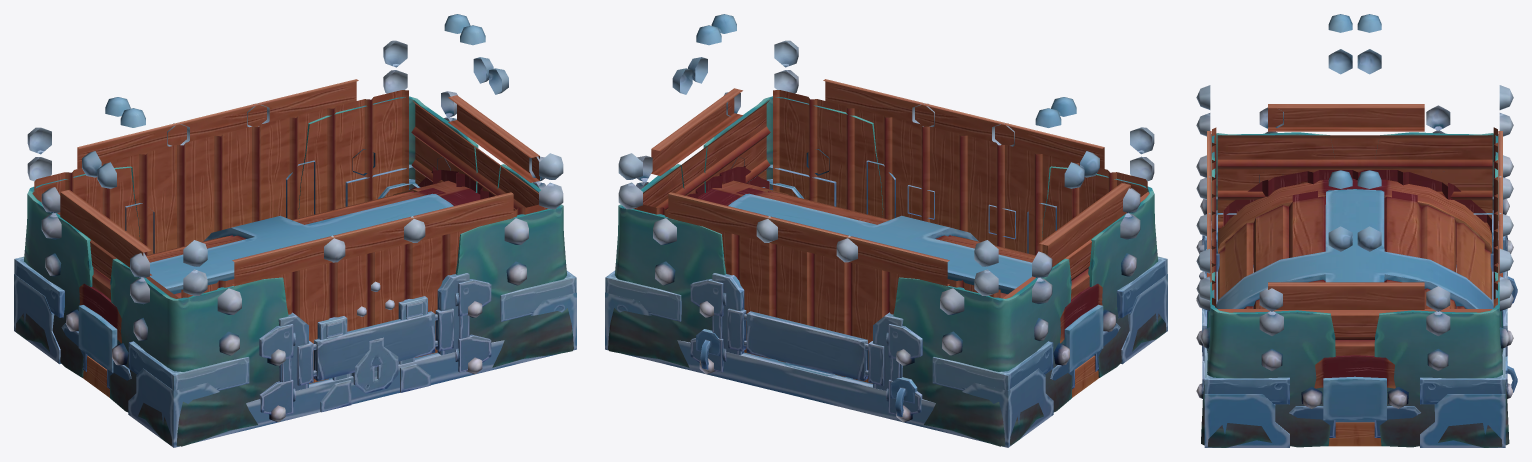
File: chest.glb
The picture shows the model from 3 angles, left to right: view 1: azimuth 30°, elevation 25°; view 2: azimuth 150°, elevation 25°; view 3: azimuth 270°, elevation 25°; orthographic projection. The views are drawn at different scales.
Visible parts, largest first — view 1: RPG_Chest; view 2: RPG_Chest; view 3: RPG_Chest.
Boxes of the visible parts, x1=… form: RPG_Chest: x1=14, y1=14, x2=576, y2=447; RPG_Chest: x1=605, y1=14, x2=1167, y2=447; RPG_Chest: x1=1196, y1=14, x2=1517, y2=447.
Size of the model in its own units: 0.5 by 0.3187 by 0.3534.
Materials: 3 (3 with a texture image).
